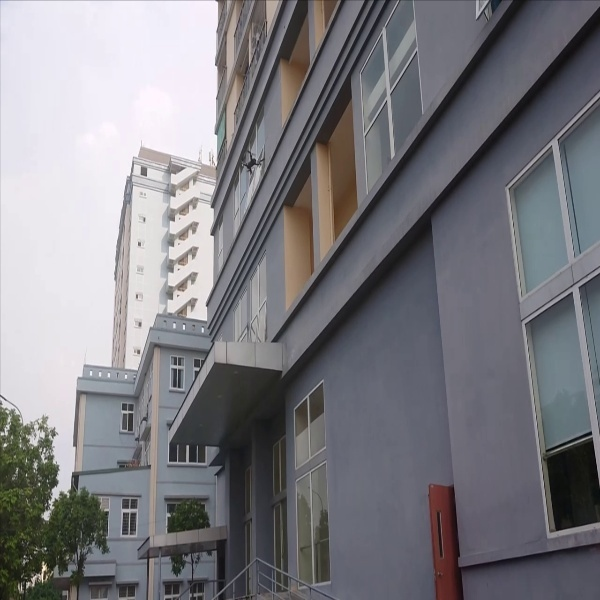drone: (235, 146, 265, 181)
